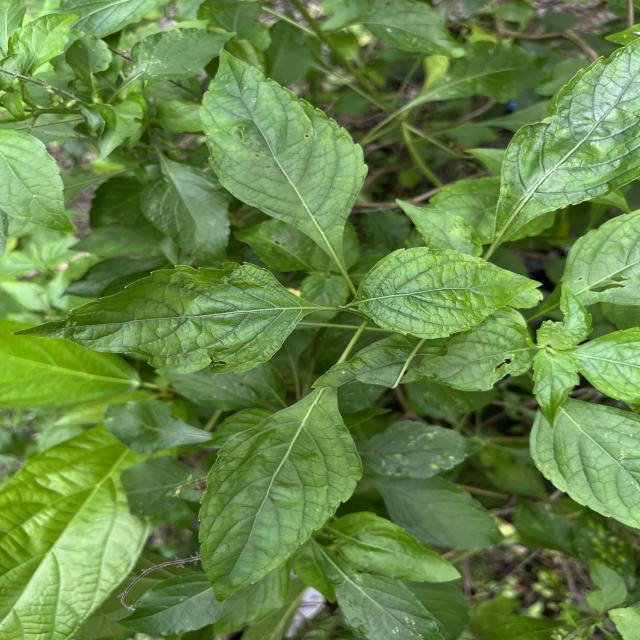Ocimum gratissimum: (196, 42, 371, 287), (192, 368, 368, 606), (9, 259, 319, 378), (486, 34, 640, 268), (344, 244, 544, 342), (525, 388, 640, 532), (0, 125, 81, 236)
